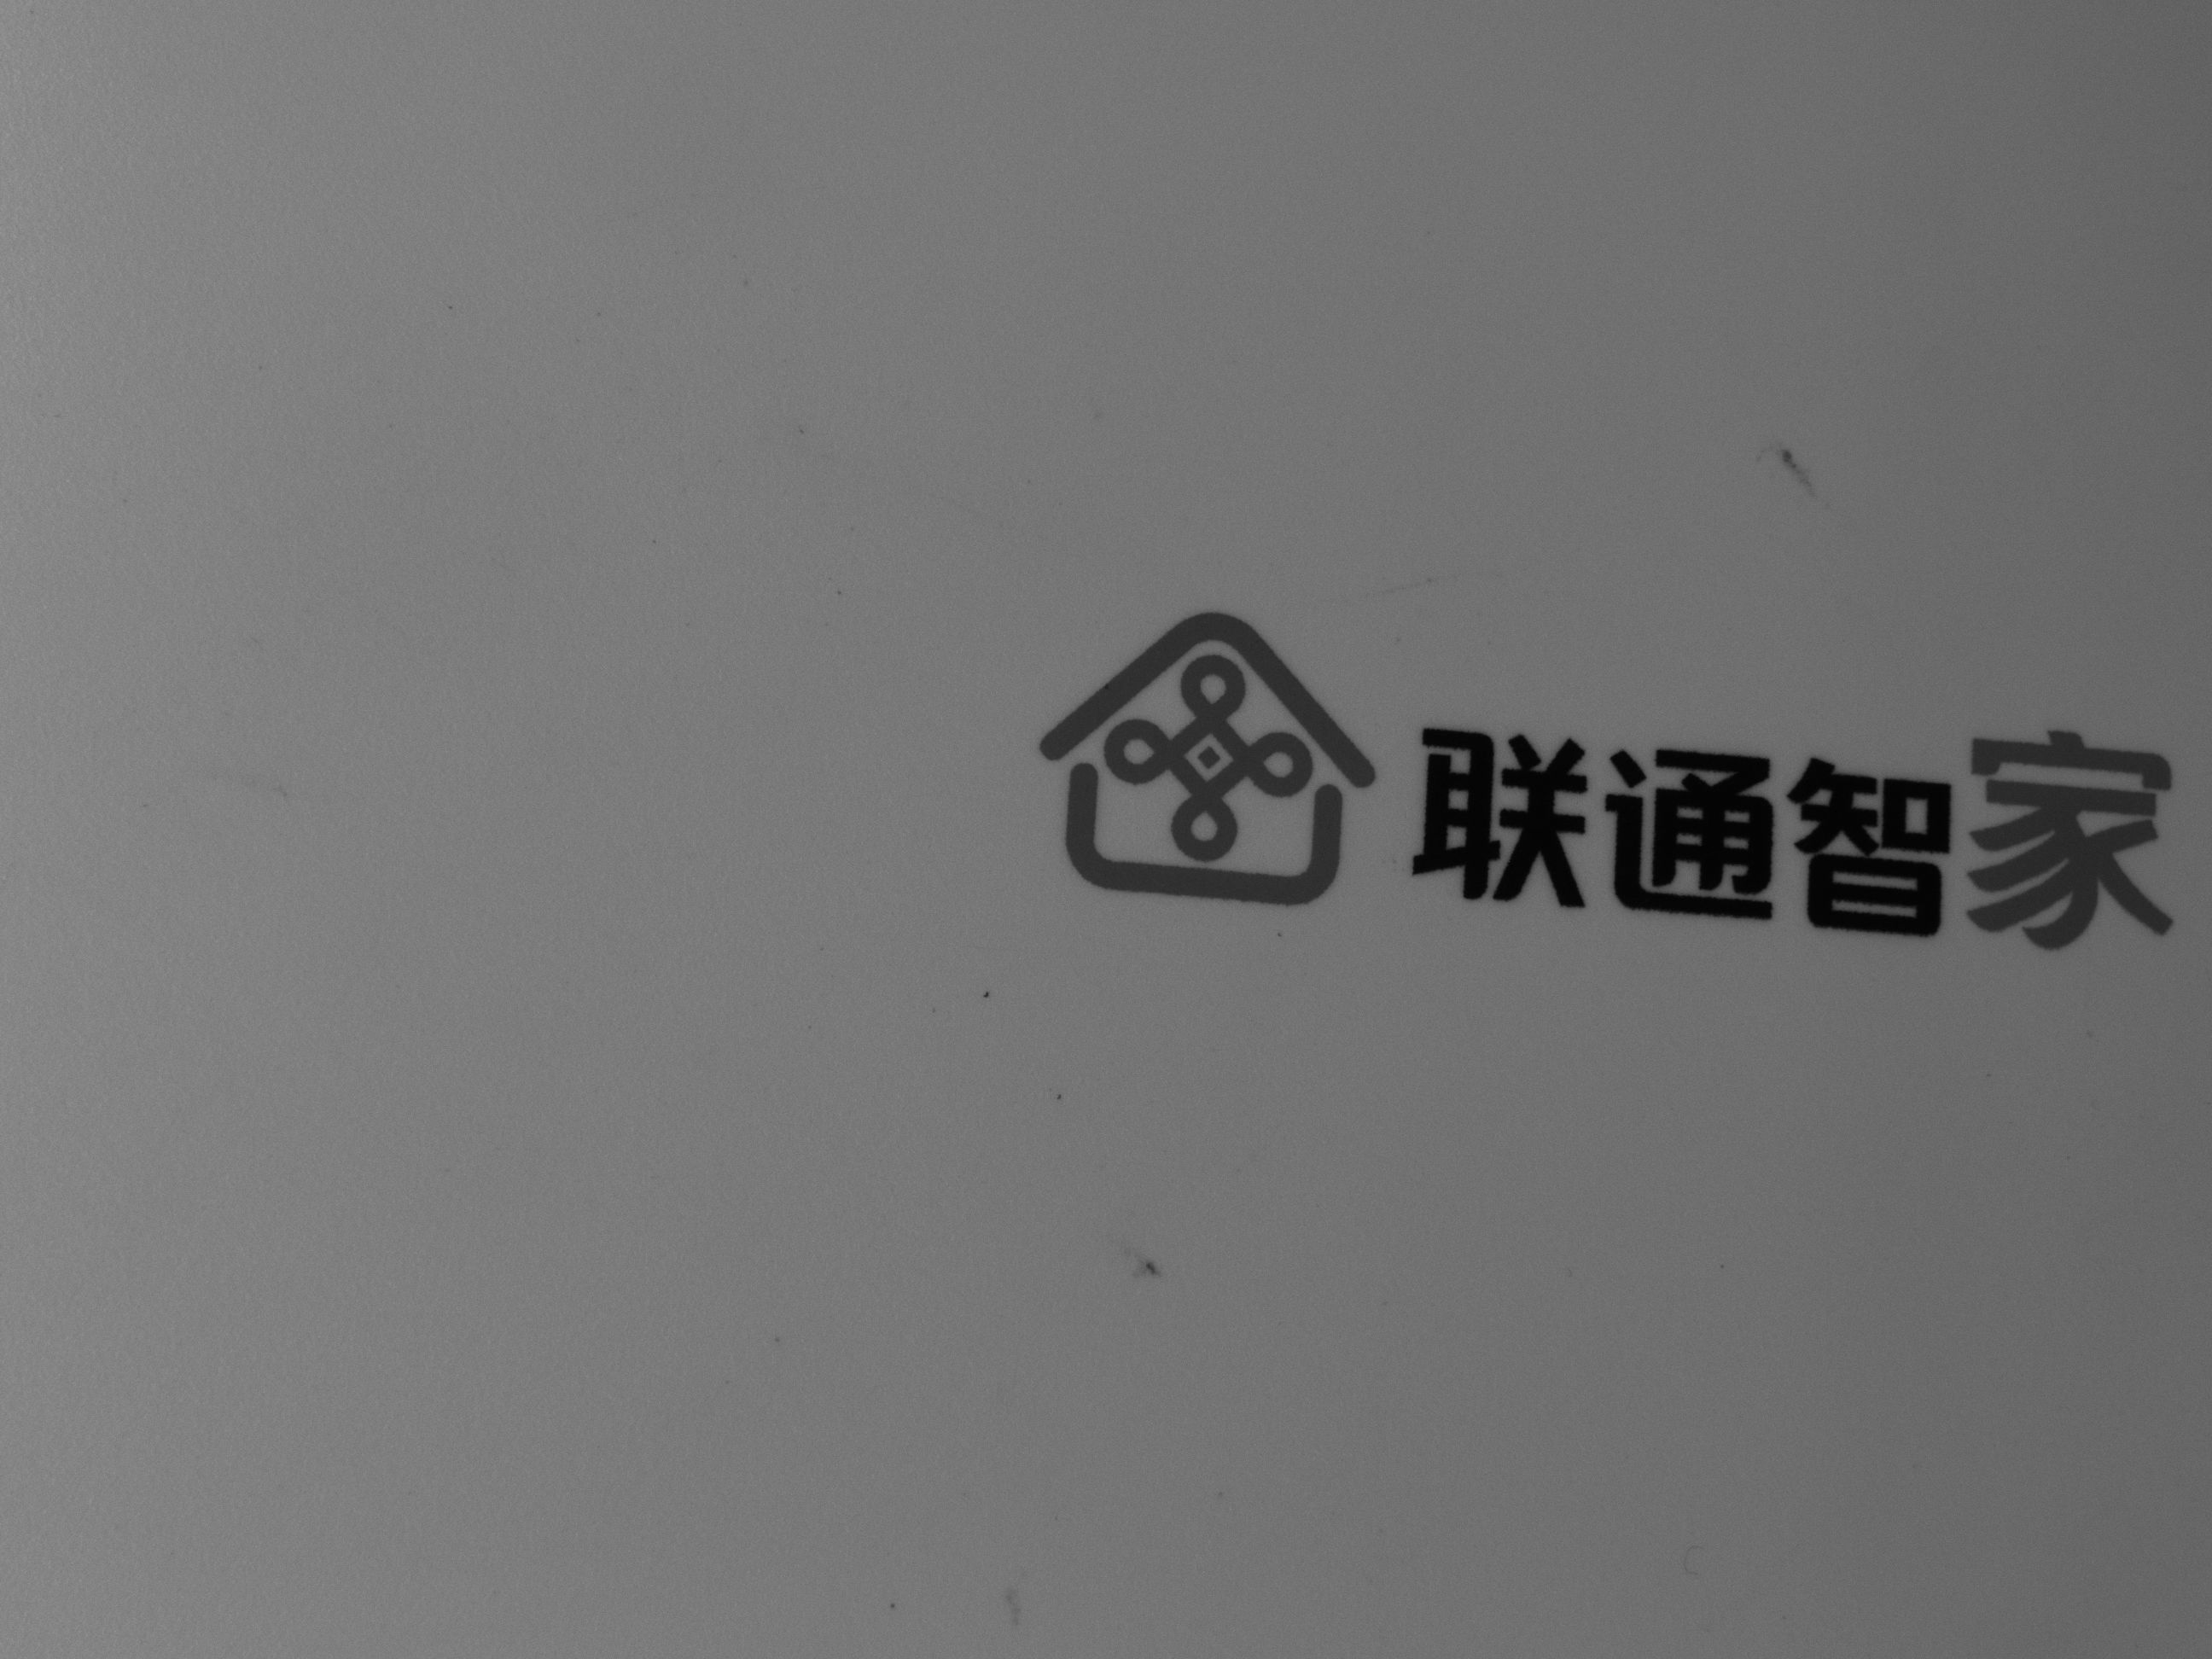BY_F6610Unicome: (1036, 568, 2189, 965)
